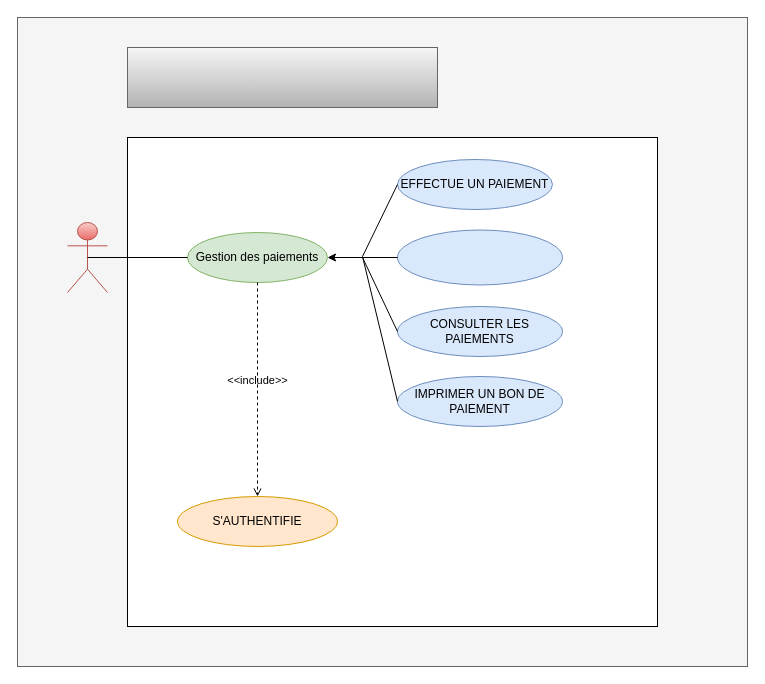
Some shapes in this 765 by 684 pixel diagram are drawn without their labels. Here are the shapes that lost their labels. From the top down, the centre of each, then its label:
At (282,77): "DIAGRAMME CAS D'UTILISATION : GESTION PAIEMENTS".
At (87,257): "SECRETAIRE".
At (479,257): "ENVOYER DES RAPPELS AU CANDIDATS".
